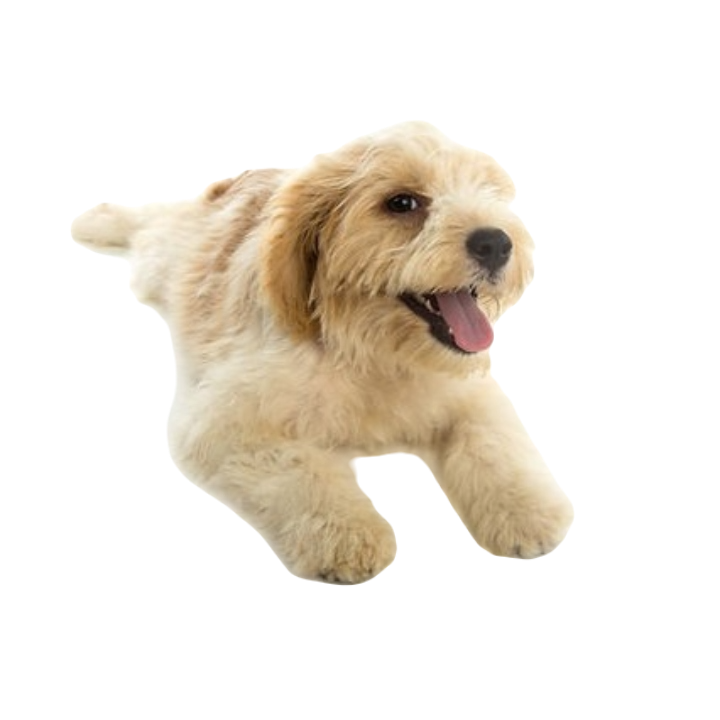Dog: (70, 112, 579, 586)
